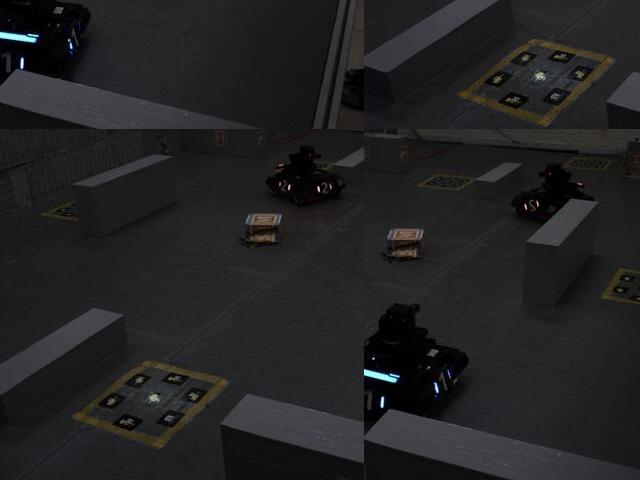armor: (60, 16, 84, 61), (429, 365, 458, 401), (0, 49, 30, 80), (364, 384, 389, 418), (522, 194, 543, 218), (312, 179, 335, 196), (274, 177, 293, 195)
